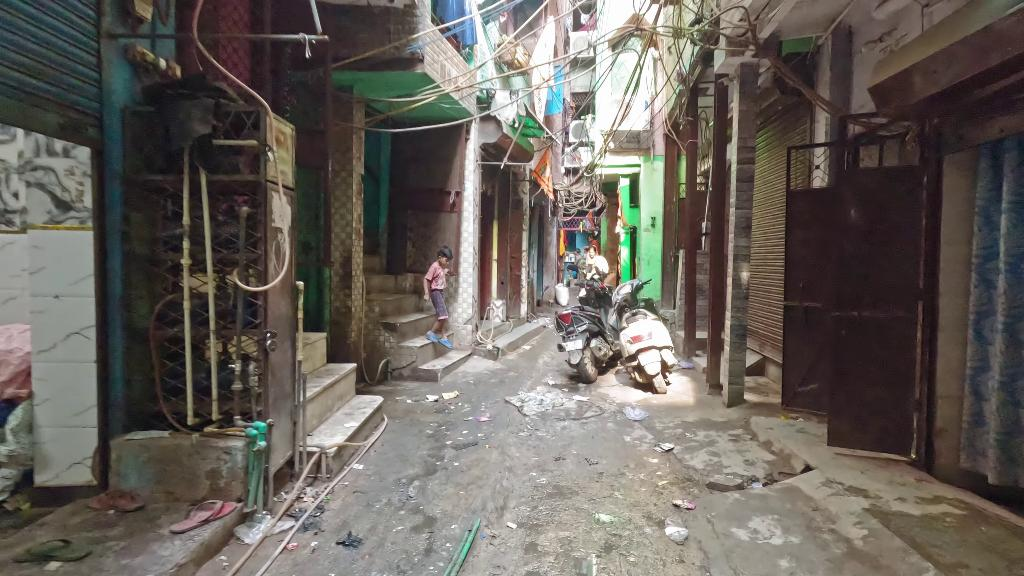garbage: (236, 509, 293, 545), (661, 521, 702, 551), (616, 401, 655, 427), (335, 525, 363, 558), (668, 496, 703, 517), (424, 389, 462, 405), (655, 439, 676, 456)
